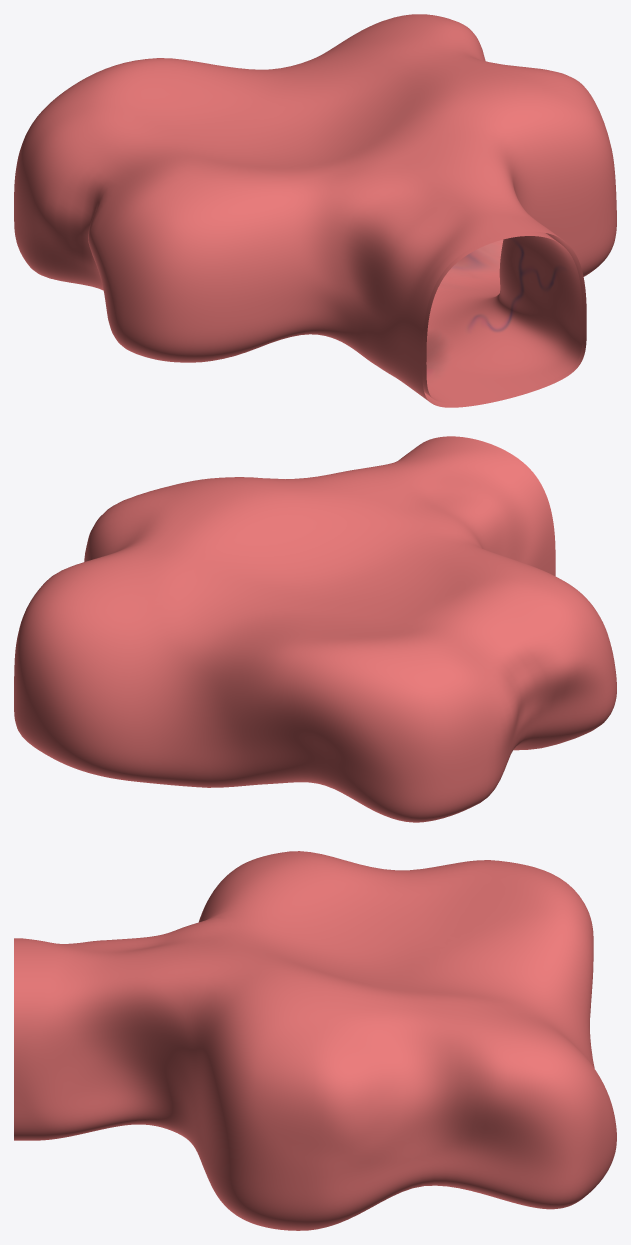
File: cave_room.fbx
3 views of the same model, one above another, from view 1: azimuth 30°, elevation 25°; view 2: azimuth 150°, elevation 25°; view 3: azimuth 270°, elevation 25° (orthographic). The views are drawn at different scales.
Visible parts, largest first — view 1: cave_room.001; view 2: cave_room.001; view 3: cave_room.001.
Part boxes in pixels (left/top/right/bottom): cave_room.001: left=14, top=14, right=616, bottom=407; cave_room.001: left=14, top=436, right=616, bottom=822; cave_room.001: left=14, top=851, right=616, bottom=1230.
Bounding box in the file's own units: 619 × 239 × 627.
Materials: 1 (1 with a texture image).
